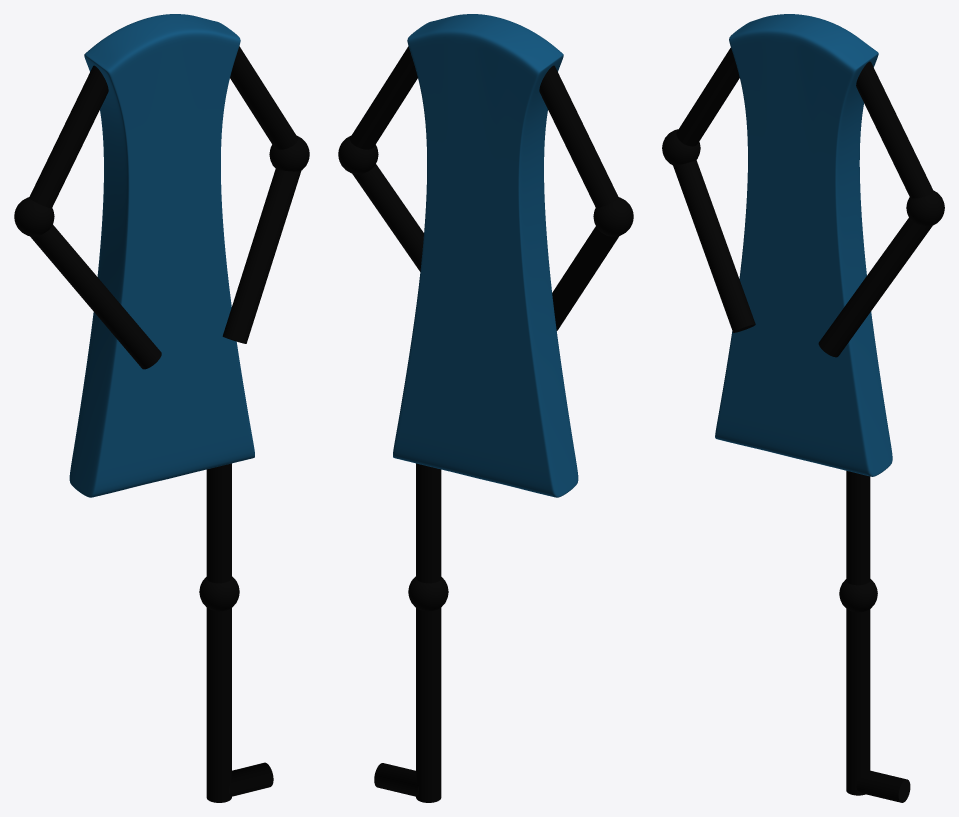
3 renders of one model, left to right at view 1: azimuth 30°, elevation 25°; view 2: azimuth 150°, elevation 25°; view 3: azimuth 330°, elevation 25°, orthographic. The views are drawn at different scales.
Visible parts, largest first — view 1: MaleBody, leftForeLeg, LeftForeArm, RightForeArm, RightUpperArm, LeftUpperLeg, LeftUpperArm, rightUpperArmSphere, leftFoot, leftUpperLegSphere, LeftUpperArmSphere; view 2: MaleBody, leftForeLeg, RightUpperArm, LeftUpperLeg, LeftUpperArm, LeftForeArm, RightForeArm, rightUpperArmSphere, leftFoot, leftUpperLegSphere, LeftUpperArmSphere; view 3: MaleBody, RightForeArm, leftForeLeg, LeftForeArm, LeftUpperArm, LeftUpperLeg, RightUpperArm, leftFoot, LeftUpperArmSphere, leftUpperLegSphere, rightUpperArmSphere.
Boxes of the visible parts, x1,y1,x2,y2 form: MaleBody: (69,14,254,497); leftForeLeg: (206,608,231,802); LeftForeArm: (222,169,301,343); RightForeArm: (30,224,161,369); RightUpperArm: (29,65,108,207); LeftUpperLeg: (206,463,231,583); LeftUpperArm: (230,46,297,149); rightUpperArmSphere: (14,197,54,236); leftFoot: (229,762,273,796); leftUpperLegSphere: (199,576,239,611); LeftUpperArmSphere: (269,135,309,171); MaleBody: (393,14,578,497); leftForeLeg: (416,608,441,802); RightUpperArm: (539,65,618,207); LeftUpperLeg: (416,463,441,583); LeftUpperArm: (350,46,417,149); LeftForeArm: (352,164,423,271); RightForeArm: (552,226,619,330); rightUpperArmSphere: (593,197,633,236); leftFoot: (374,763,418,796); leftUpperLegSphere: (408,576,448,611); LeftUpperArmSphere: (338,135,378,174); MaleBody: (715,14,892,476); RightForeArm: (673,160,755,332); leftForeLeg: (846,609,870,795); LeftForeArm: (818,218,932,357); LeftUpperArm: (856,61,933,198); LeftUpperLeg: (846,471,870,585); RightUpperArm: (676,47,739,146); leftFoot: (856,770,910,802); LeftUpperArmSphere: (906,190,944,226); leftUpperLegSphere: (839,579,877,612); rightUpperArmSphere: (662,129,700,165).
Bounding box in the file's own units: 133 × 345 × 35.4.
